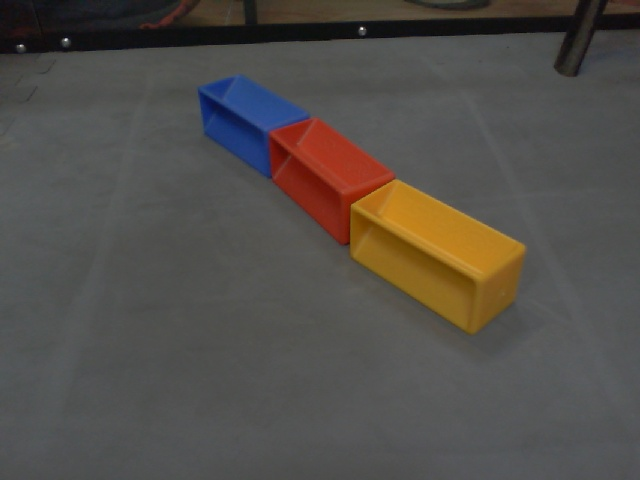BlueSample: (197, 73, 313, 181)
RedSample: (268, 115, 398, 247)
YellowSample: (348, 179, 528, 337)
